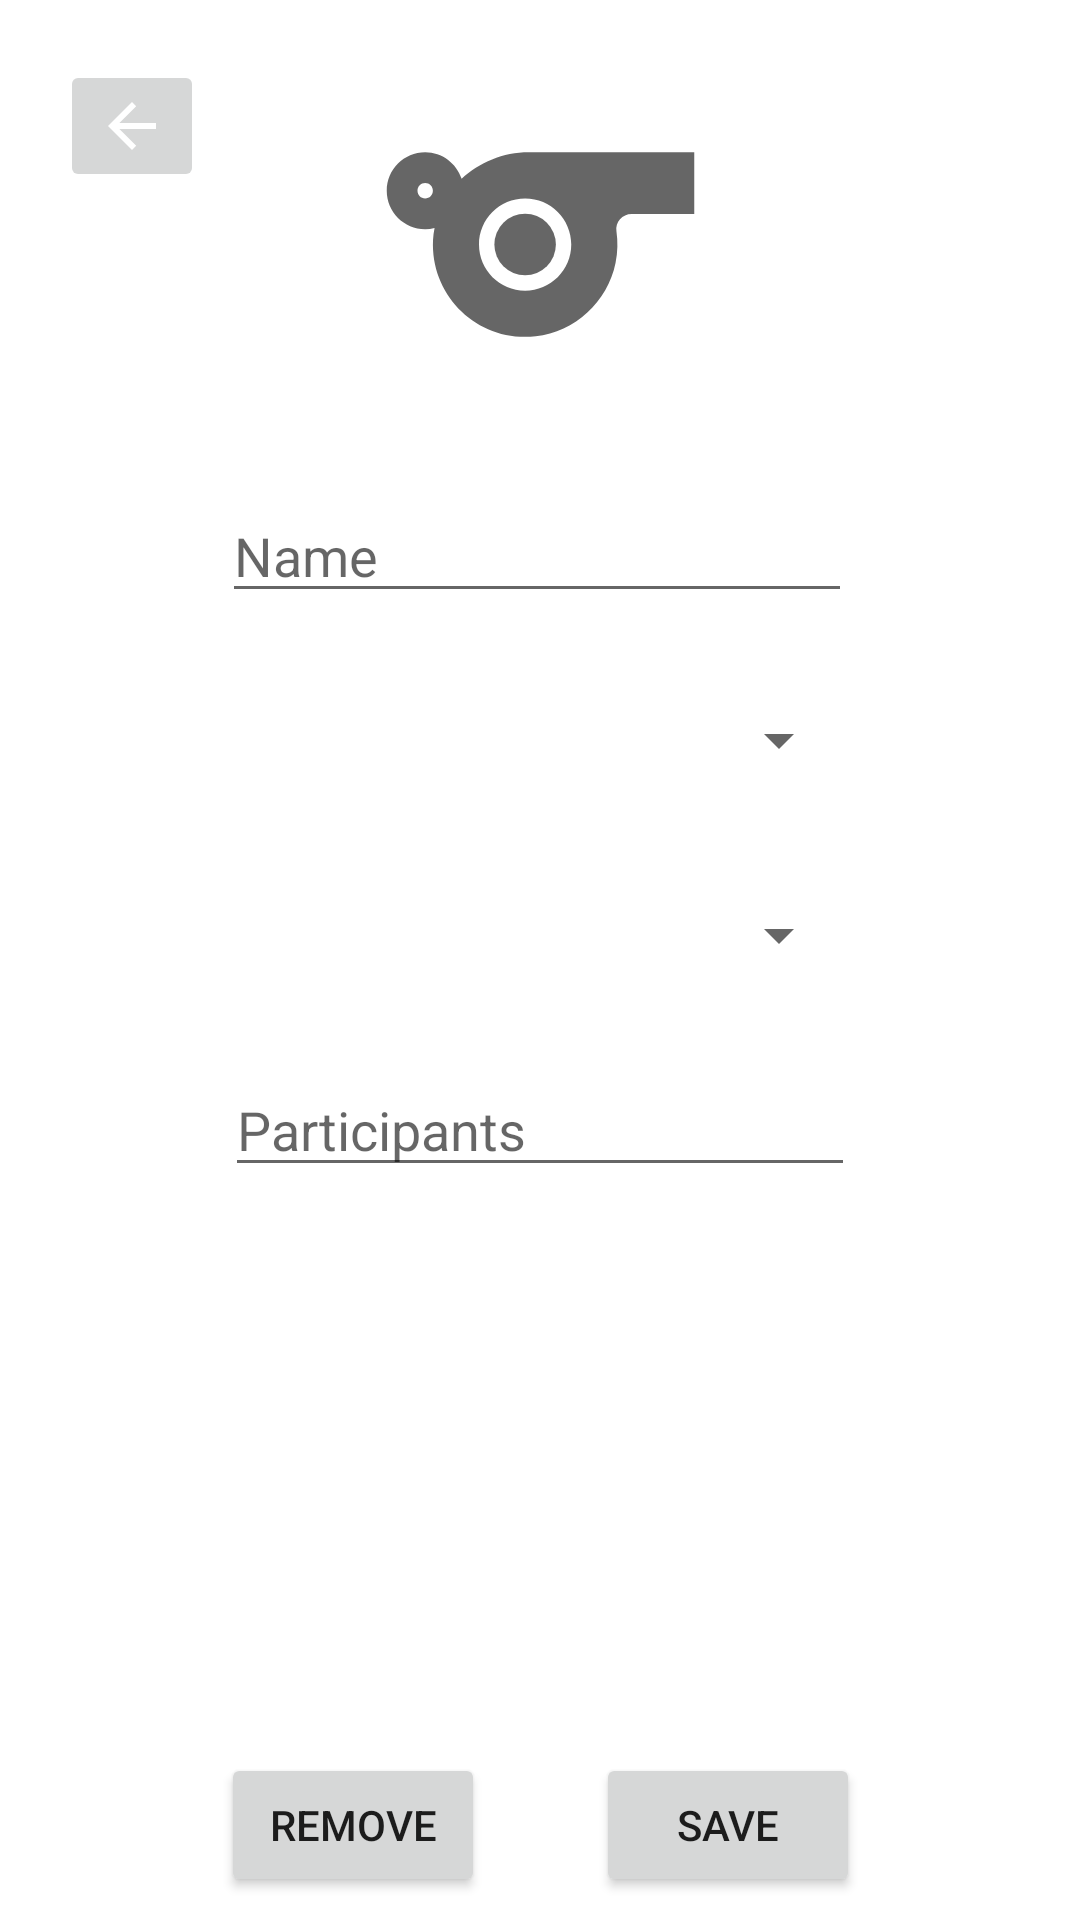

Icon click points for this 1080×1920 phone screenshot, format (x,y):
sports: (540,244)
